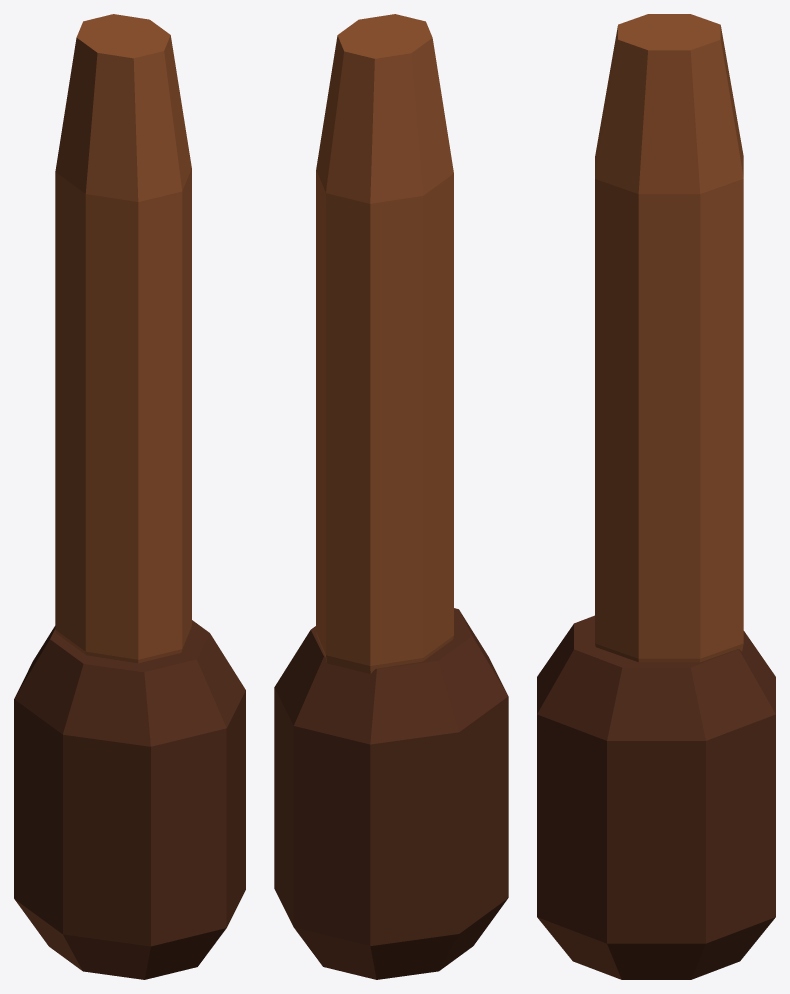
File: cow-brown-tail.obj
3 views of the same model, side by side, from view 1: azimuth 30°, elevation 25°; view 2: azimuth 150°, elevation 25°; view 3: azimuth 270°, elevation 25° (orthographic).
Visible parts, largest first — view 1: cow-brown-tail; view 2: cow-brown-tail; view 3: cow-brown-tail.
Boxes of the visible parts, <box> form: cow-brown-tail: <box>14,14,245,979</box>; cow-brown-tail: <box>274,14,508,979</box>; cow-brown-tail: <box>537,14,775,979</box>.
Bounding box in the file's own units: 0.1497 × 0.705 × 0.1666.
